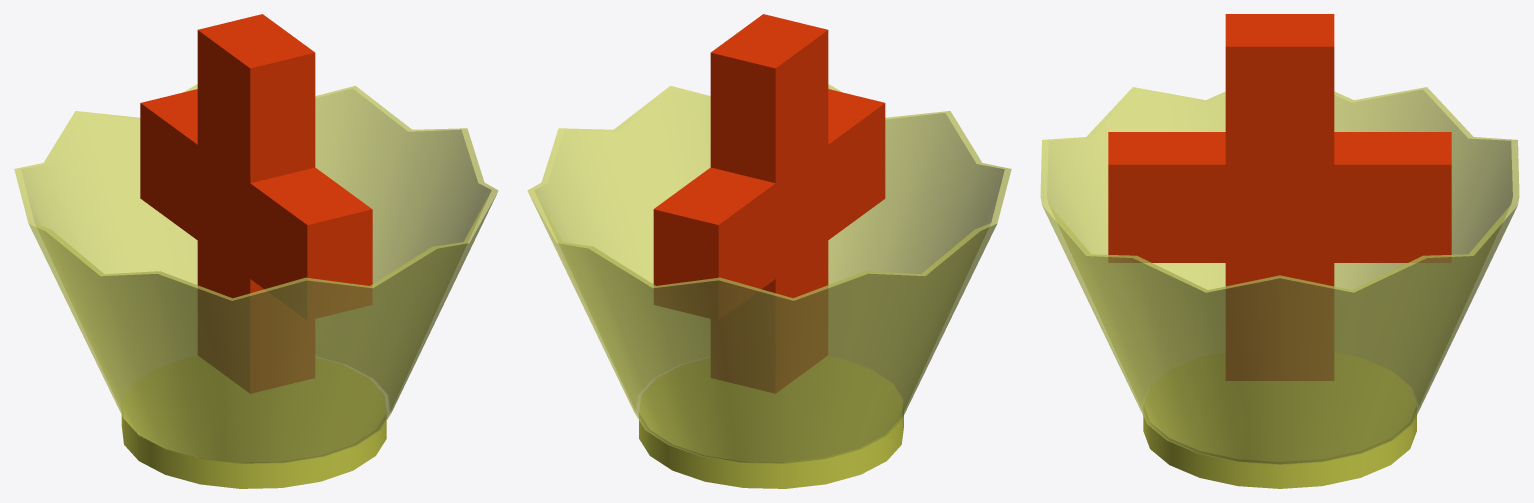
File: Health_Out v2.fbx
The picture shows the model from 3 angles, left to right: view 1: azimuth 30°, elevation 25°; view 2: azimuth 150°, elevation 25°; view 3: azimuth 270°, elevation 25°; orthographic projection. The views are drawn at different scales.
Visible parts, largest first — view 1: pPipe1, pCube2, pCylinder1; view 2: pPipe1, pCube2, pCylinder1; view 3: pPipe1, pCube2, pCylinder1.
Part boxes in pixels (x1,y1,x2,y2): pPipe1: [14, 84, 498, 463]; pCube2: [140, 14, 372, 393]; pCylinder1: [121, 356, 386, 488]; pPipe1: [527, 84, 1011, 463]; pCube2: [653, 14, 885, 393]; pCylinder1: [639, 356, 903, 488]; pPipe1: [1040, 87, 1519, 464]; pCube2: [1108, 14, 1451, 380]; pCylinder1: [1143, 352, 1416, 488].
Size of the model in its own units: 7.46 by 6.61 by 7.14.
